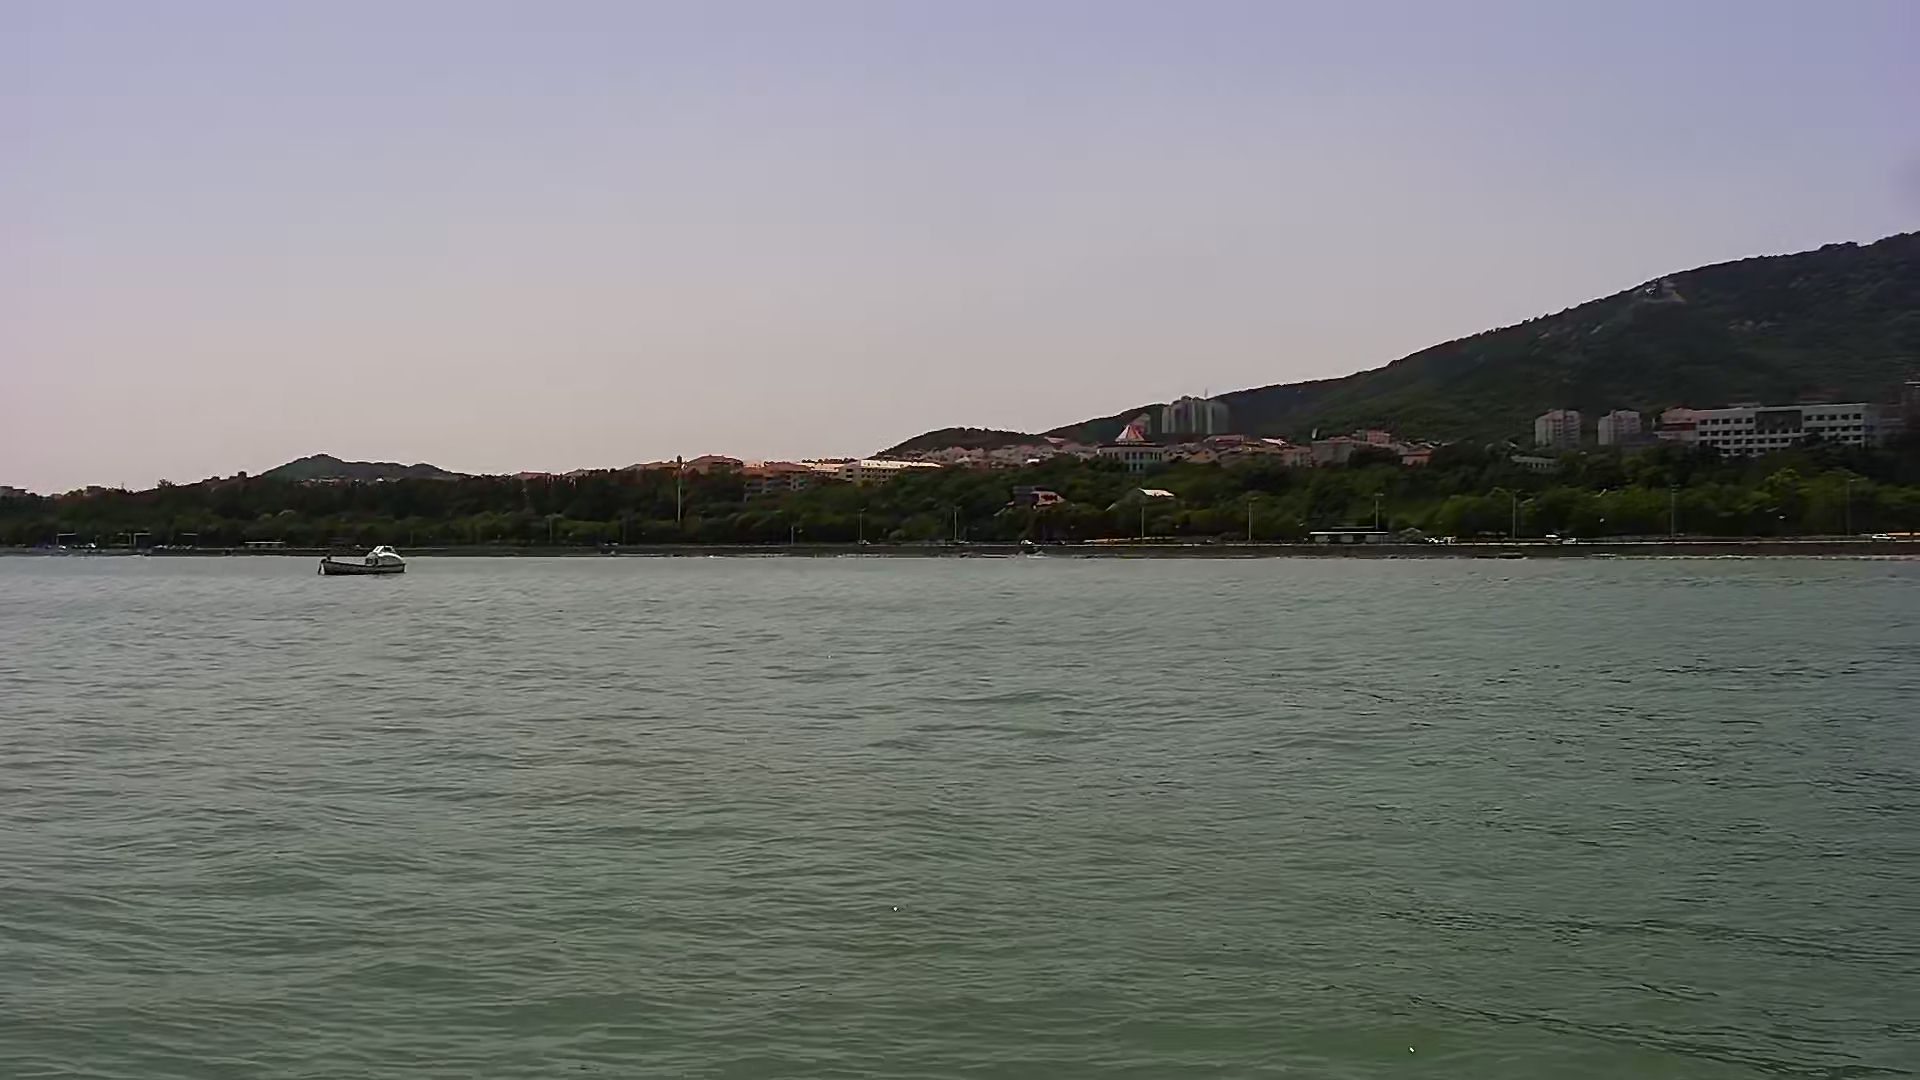ship: (320, 543, 411, 579)
